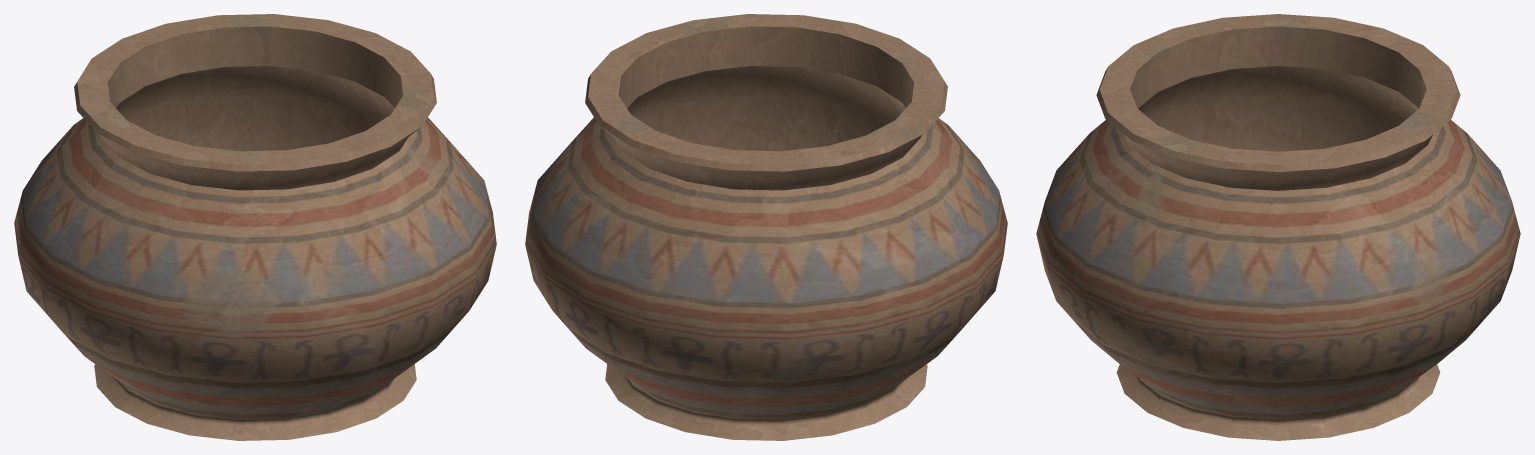
Rendered from pot_2.fbx.
3 renders of one model, left to right at view 1: azimuth 30°, elevation 25°; view 2: azimuth 150°, elevation 25°; view 3: azimuth 270°, elevation 25°, orthographic.
Visible parts, largest first — view 1: pot_2; view 2: pot_2; view 3: pot_2.
Boxes of the visible parts, <box> form: pot_2: <box>14,14,496,440</box>; pot_2: <box>525,14,1007,440</box>; pot_2: <box>1036,14,1520,440</box>.
Bounding box in the file's own units: 112 × 74.08 × 112.
1 material, 1 textured.
